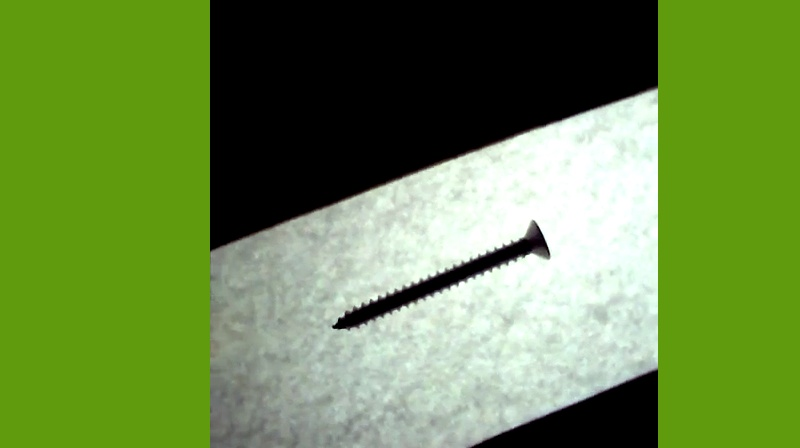S002: (327, 216, 552, 332)
